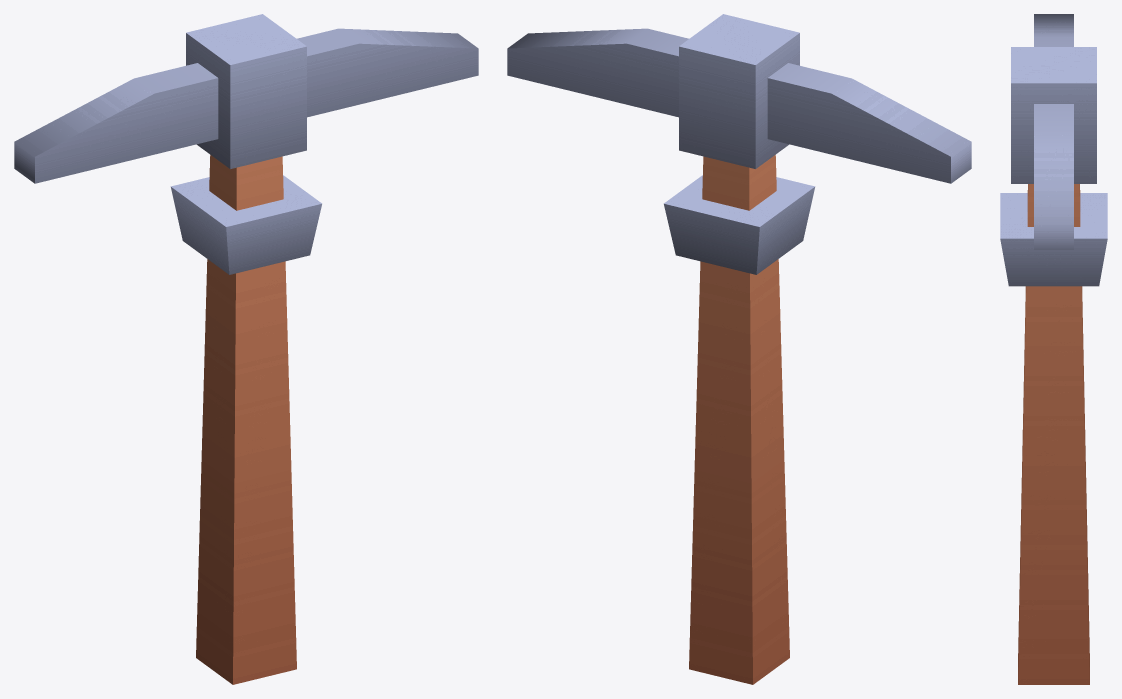
Rendered from tool-pickaxe.glb.
The picture shows the model from 3 angles, left to right: view 1: azimuth 30°, elevation 25°; view 2: azimuth 150°, elevation 25°; view 3: azimuth 270°, elevation 25°; orthographic projection. The views are drawn at different scales.
Parts seen in each view (by area): view 1: tool-pickaxe; view 2: tool-pickaxe; view 3: tool-pickaxe.
Part boxes in pixels (<box>): tool-pickaxe: <box>14,14,478,684</box>; tool-pickaxe: <box>507,14,971,684</box>; tool-pickaxe: <box>1000,14,1107,684</box>.
Bounding box in the file's own units: 0.1786 × 0.24 × 0.0387.
Materials: 1 (1 with a texture image).
